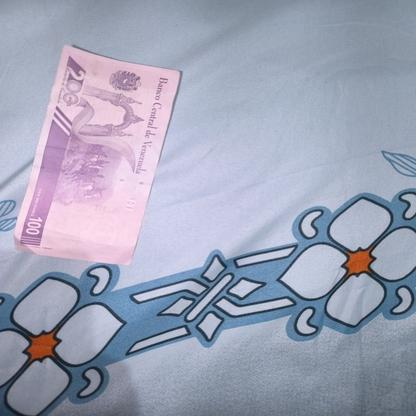one_hundred-back-vef: (13, 44, 182, 266)
